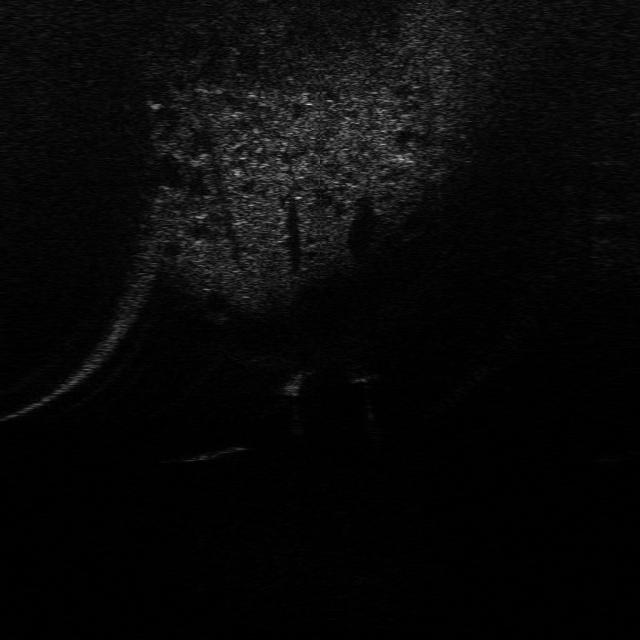cube: (342, 353, 387, 386)
cylinder: (276, 365, 312, 397)
